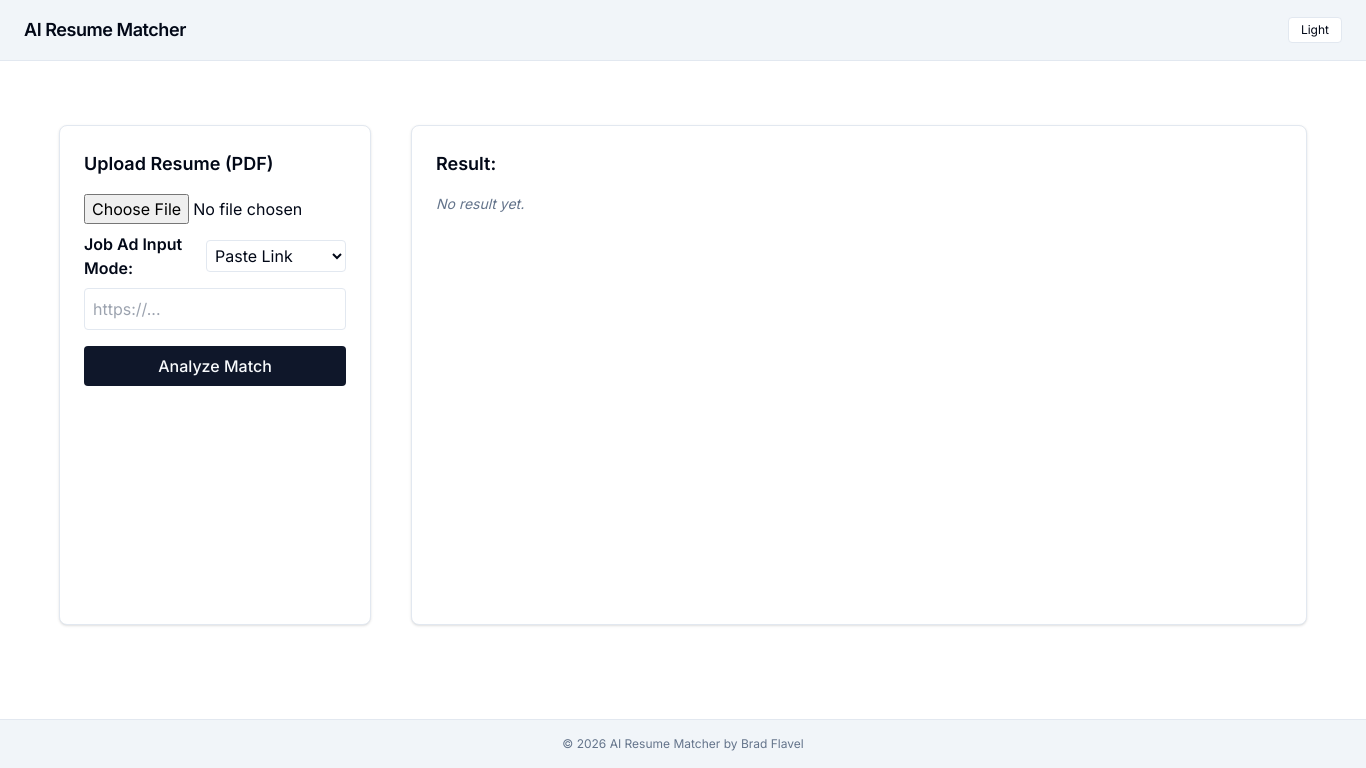
Test: App — input mode toggle › swaps the URL input for a textarea when mode changes to text
The image size is (1366, 768).
Expected: the field with placeholder "https://..." is shown, [84,288,346,330]
Expected: the field with placeholder "Paste full job ad text" is not shown
// flip the dropdown to text mode
Select "Paste Full Text" in the dropdown: (276, 256) [206,240,346,272]
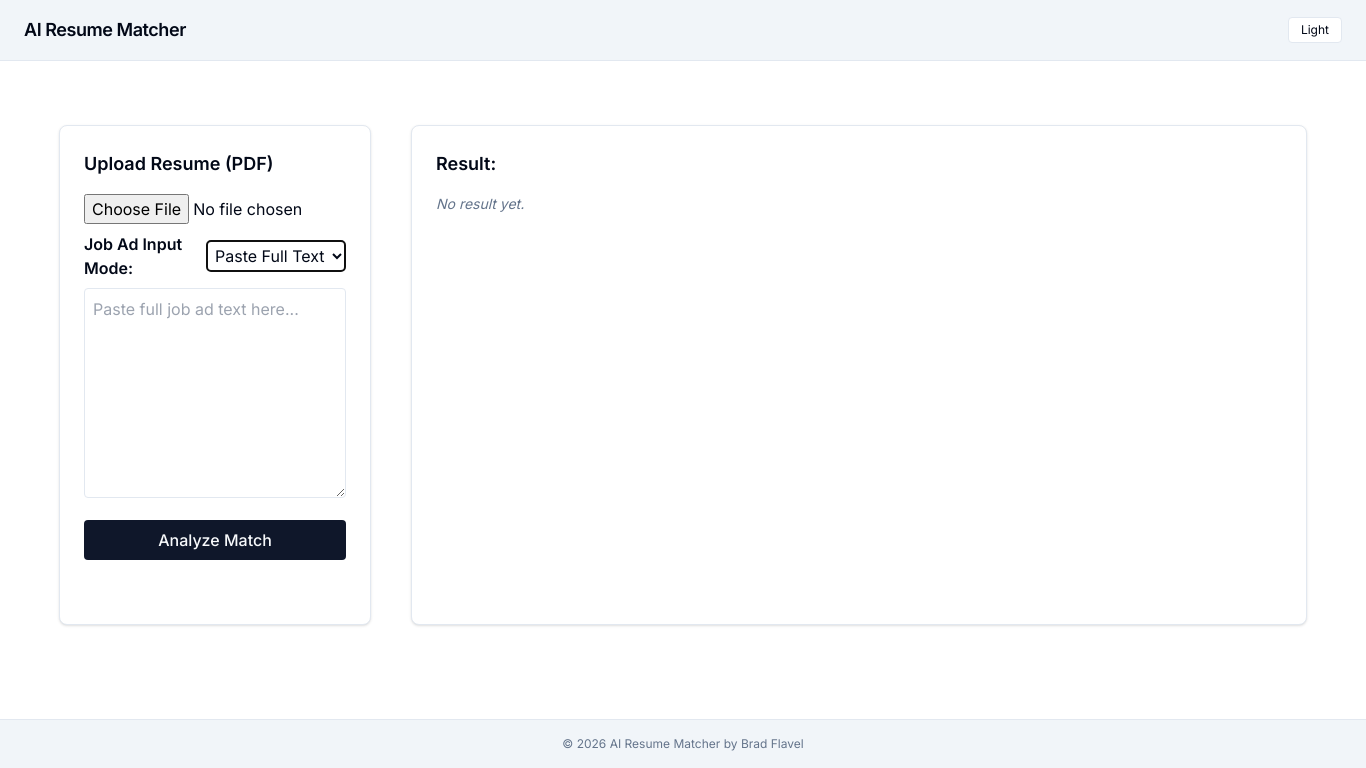
Expected: the field with placeholder "https://" is not shown
Expected: the text box with placeholder "Paste full job ad text here..." is shown, [84,288,346,498]
